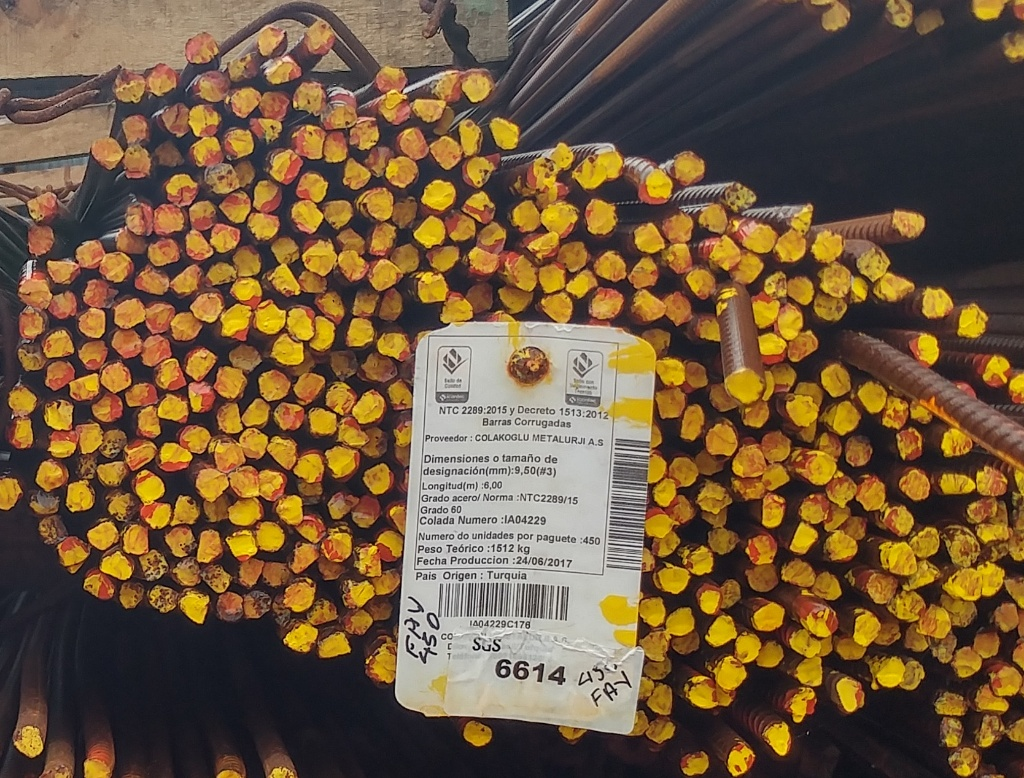dipstick: (369, 87, 414, 125), (943, 524, 979, 568), (55, 535, 93, 576), (181, 31, 223, 68), (875, 539, 919, 574), (588, 284, 627, 323), (725, 368, 766, 405), (365, 638, 395, 688), (10, 724, 50, 761), (540, 200, 577, 240), (302, 20, 339, 59), (456, 66, 493, 105), (288, 200, 327, 237), (324, 443, 363, 480), (941, 591, 978, 630), (290, 80, 326, 120), (12, 274, 52, 310), (710, 654, 751, 689), (988, 657, 1023, 698), (358, 350, 400, 384), (108, 66, 145, 104), (255, 23, 292, 61), (815, 359, 852, 397), (854, 379, 891, 417), (267, 148, 303, 187), (920, 283, 956, 322), (190, 136, 230, 171), (290, 125, 330, 160), (302, 236, 337, 276), (721, 177, 761, 212), (705, 418, 739, 459), (94, 548, 136, 581), (365, 256, 407, 289), (832, 672, 864, 715), (168, 262, 205, 299), (229, 274, 265, 312), (671, 149, 707, 187), (144, 62, 179, 101), (855, 244, 890, 283), (183, 104, 223, 138), (319, 97, 359, 131), (943, 566, 983, 600), (32, 515, 73, 548), (881, 504, 922, 537), (225, 525, 261, 562), (341, 574, 377, 611), (583, 197, 620, 233), (217, 188, 252, 226), (281, 619, 319, 654), (704, 236, 742, 271), (661, 290, 699, 325), (817, 260, 855, 295), (214, 365, 248, 404), (355, 188, 394, 222), (953, 299, 987, 338), (259, 55, 303, 85), (373, 329, 413, 362), (508, 194, 541, 234), (748, 599, 788, 632), (899, 560, 946, 588), (363, 145, 399, 181), (4, 383, 40, 419), (177, 588, 213, 624), (184, 345, 219, 382), (696, 478, 733, 513), (818, 1, 855, 36), (801, 602, 839, 636), (945, 742, 983, 776), (223, 497, 266, 527), (133, 264, 172, 297), (777, 554, 816, 587), (372, 61, 412, 93), (123, 197, 155, 237), (823, 400, 863, 432), (821, 529, 862, 560), (223, 52, 265, 82), (252, 179, 288, 214), (703, 611, 739, 646), (684, 673, 720, 708), (917, 602, 952, 638), (130, 402, 164, 439), (652, 386, 689, 420), (626, 252, 659, 290), (639, 167, 671, 206), (946, 646, 985, 678), (877, 1, 916, 33), (776, 296, 805, 339), (191, 71, 231, 102), (245, 114, 286, 144), (229, 85, 264, 120), (428, 134, 463, 169), (660, 208, 695, 243), (744, 531, 779, 566), (88, 136, 124, 170), (487, 116, 521, 152), (205, 162, 241, 196), (503, 255, 537, 291), (681, 543, 717, 577), (784, 686, 820, 720), (396, 125, 429, 162), (131, 471, 168, 504), (631, 290, 668, 323), (761, 721, 794, 758), (731, 442, 768, 475), (790, 654, 827, 687), (980, 352, 1013, 389), (429, 67, 461, 105), (80, 277, 118, 309), (461, 191, 499, 223), (628, 220, 666, 252), (204, 261, 243, 292), (758, 493, 789, 532), (751, 291, 782, 330), (315, 630, 355, 660), (293, 170, 328, 204), (99, 248, 133, 283), (190, 290, 225, 324), (187, 380, 221, 415), (291, 448, 325, 483), (801, 450, 836, 484), (870, 655, 904, 690), (810, 228, 844, 263), (916, 5, 951, 39), (259, 92, 295, 125), (268, 262, 301, 298), (320, 382, 356, 415), (421, 178, 457, 211), (661, 243, 697, 276), (321, 129, 353, 166), (351, 543, 383, 580), (975, 712, 1007, 749), (33, 457, 71, 488), (939, 426, 977, 457), (753, 332, 791, 363), (359, 462, 398, 492), (26, 221, 60, 255), (733, 252, 767, 286), (64, 479, 99, 512), (282, 577, 315, 612), (292, 371, 325, 406), (464, 155, 499, 188), (797, 492, 832, 525), (153, 203, 189, 235), (13, 308, 49, 340), (413, 271, 449, 303), (854, 475, 886, 511), (977, 463, 1009, 499), (137, 548, 168, 585), (789, 518, 819, 556), (94, 458, 133, 487), (335, 607, 374, 636), (436, 295, 475, 324), (75, 306, 109, 339), (144, 302, 178, 335), (75, 340, 109, 373), (259, 557, 293, 590), (350, 494, 384, 527), (337, 248, 371, 281), (696, 201, 730, 234), (775, 228, 808, 262), (896, 466, 929, 500), (907, 333, 941, 366), (785, 329, 818, 363), (117, 113, 152, 145), (383, 156, 418, 188), (73, 239, 108, 271), (212, 438, 247, 470), (312, 290, 347, 322), (741, 220, 776, 252), (151, 140, 187, 171), (172, 492, 203, 528), (120, 522, 151, 558), (87, 519, 123, 550), (228, 464, 259, 500), (292, 513, 328, 544), (365, 567, 401, 598), (640, 326, 676, 357), (653, 563, 689, 594), (890, 208, 926, 239), (412, 95, 449, 125), (169, 311, 206, 341), (888, 590, 925, 620), (872, 609, 902, 646), (678, 402, 705, 443), (874, 273, 915, 300), (104, 491, 146, 517), (375, 284, 403, 323), (497, 285, 536, 313), (4, 419, 37, 452), (145, 581, 178, 614), (352, 389, 385, 422), (158, 105, 192, 137), (221, 127, 253, 161), (156, 358, 188, 392), (179, 423, 213, 455), (82, 569, 116, 601), (271, 400, 303, 434), (989, 599, 1021, 633), (26, 192, 61, 223), (169, 557, 204, 588), (559, 240, 594, 271), (760, 428, 791, 463), (894, 427, 925, 462), (879, 395, 910, 430), (413, 216, 449, 246), (827, 470, 857, 506), (853, 611, 883, 647), (123, 439, 160, 468), (252, 522, 289, 551), (287, 303, 315, 341), (423, 245, 461, 273), (814, 292, 852, 320), (164, 173, 197, 205), (159, 392, 191, 425), (259, 368, 291, 401), (307, 404, 340, 436), (360, 426, 392, 459), (271, 334, 304, 366), (909, 524, 942, 556), (323, 198, 357, 229), (193, 465, 227, 496), (200, 493, 234, 524), (266, 437, 297, 471), (389, 243, 423, 274), (525, 231, 559, 262), (904, 391, 935, 425), (197, 564, 232, 594), (243, 588, 273, 623), (226, 342, 261, 372), (937, 472, 979, 497), (116, 227, 152, 256), (245, 211, 281, 240), (115, 299, 151, 328), (155, 442, 191, 471), (306, 595, 342, 624), (26, 488, 63, 516), (743, 564, 780, 592), (111, 327, 143, 359), (667, 454, 699, 486), (341, 156, 372, 189), (188, 200, 219, 233), (233, 246, 264, 279), (44, 398, 75, 431), (220, 303, 251, 336), (373, 530, 404, 563), (348, 285, 381, 316), (469, 246, 500, 279), (463, 283, 496, 314), (538, 263, 571, 294), (644, 682, 675, 715), (867, 573, 900, 604), (100, 362, 134, 392), (90, 394, 124, 424), (288, 543, 322, 573), (442, 210, 476, 240), (664, 606, 698, 636), (788, 628, 823, 657), (197, 527, 223, 566), (71, 451, 107, 479), (539, 295, 575, 323), (730, 474, 767, 501), (140, 335, 172, 366), (45, 361, 77, 392), (16, 341, 48, 372), (45, 427, 77, 458), (72, 422, 103, 454), (164, 525, 196, 556), (323, 530, 354, 562), (844, 434, 876, 465), (42, 328, 75, 358), (116, 577, 146, 610), (254, 302, 287, 332), (679, 747, 712, 777), (966, 1, 1009, 24), (148, 237, 182, 266), (473, 221, 507, 250), (708, 378, 737, 412), (971, 623, 1000, 657), (332, 225, 367, 253), (725, 741, 753, 776), (974, 682, 1009, 710), (42, 258, 81, 283), (696, 448, 732, 475), (457, 119, 483, 156), (349, 119, 380, 150), (210, 222, 241, 253), (345, 316, 376, 347), (768, 363, 799, 394), (269, 235, 301, 265), (215, 591, 245, 623), (329, 350, 361, 380), (596, 249, 626, 281), (639, 632, 671, 662), (787, 273, 817, 305), (239, 397, 272, 426), (240, 428, 269, 461), (257, 468, 286, 501), (326, 490, 359, 519), (780, 202, 813, 231), (933, 687, 966, 716), (936, 715, 965, 748), (68, 372, 102, 400), (459, 719, 493, 747), (815, 568, 843, 602), (685, 357, 711, 393), (649, 533, 685, 559), (788, 394, 819, 424), (100, 427, 129, 459), (139, 500, 171, 529), (686, 267, 715, 299), (696, 583, 725, 615), (904, 620, 933, 652), (929, 631, 958, 663), (979, 563, 1008, 595), (526, 159, 559, 187), (233, 158, 260, 192), (337, 415, 366, 446), (369, 222, 400, 251), (648, 716, 679, 745), (217, 402, 244, 435), (554, 722, 591, 746), (362, 595, 396, 621), (50, 291, 81, 319), (644, 511, 676, 538), (976, 518, 1012, 542), (315, 553, 348, 579), (76, 756, 115, 778), (902, 655, 925, 692), (575, 154, 600, 188), (707, 527, 741, 552), (384, 378, 413, 407), (824, 502, 853, 531), (694, 312, 723, 341), (125, 382, 160, 406), (756, 639, 786, 667), (393, 197, 420, 228), (568, 269, 599, 296), (313, 314, 335, 352), (1, 475, 23, 513), (604, 143, 626, 181), (965, 496, 999, 520), (275, 494, 304, 522), (297, 479, 327, 506), (665, 496, 695, 523), (764, 460, 791, 490), (641, 597, 667, 628), (998, 30, 1024, 61), (238, 556, 263, 587), (979, 539, 1010, 564), (817, 429, 842, 459), (654, 358, 685, 382), (672, 632, 704, 655), (836, 636, 868, 659), (744, 401, 771, 428), (651, 478, 677, 506), (549, 140, 573, 170), (723, 576, 743, 612), (736, 630, 760, 660), (390, 412, 411, 446), (299, 269, 329, 292), (648, 452, 669, 484), (764, 271, 788, 299), (1003, 575, 1024, 606), (643, 658, 674, 678), (629, 708, 650, 737), (388, 500, 406, 533), (848, 276, 869, 304), (843, 515, 867, 539), (637, 676, 656, 704), (1008, 370, 1024, 401), (640, 546, 656, 572)
